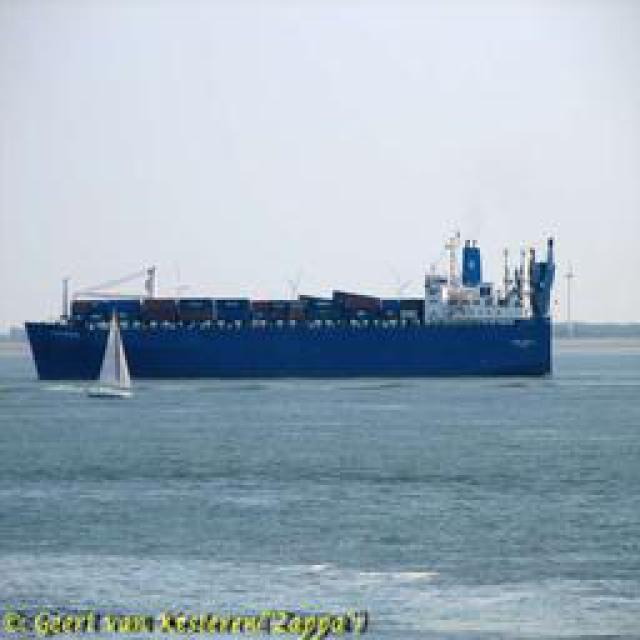Ship: (40, 236, 560, 386)
